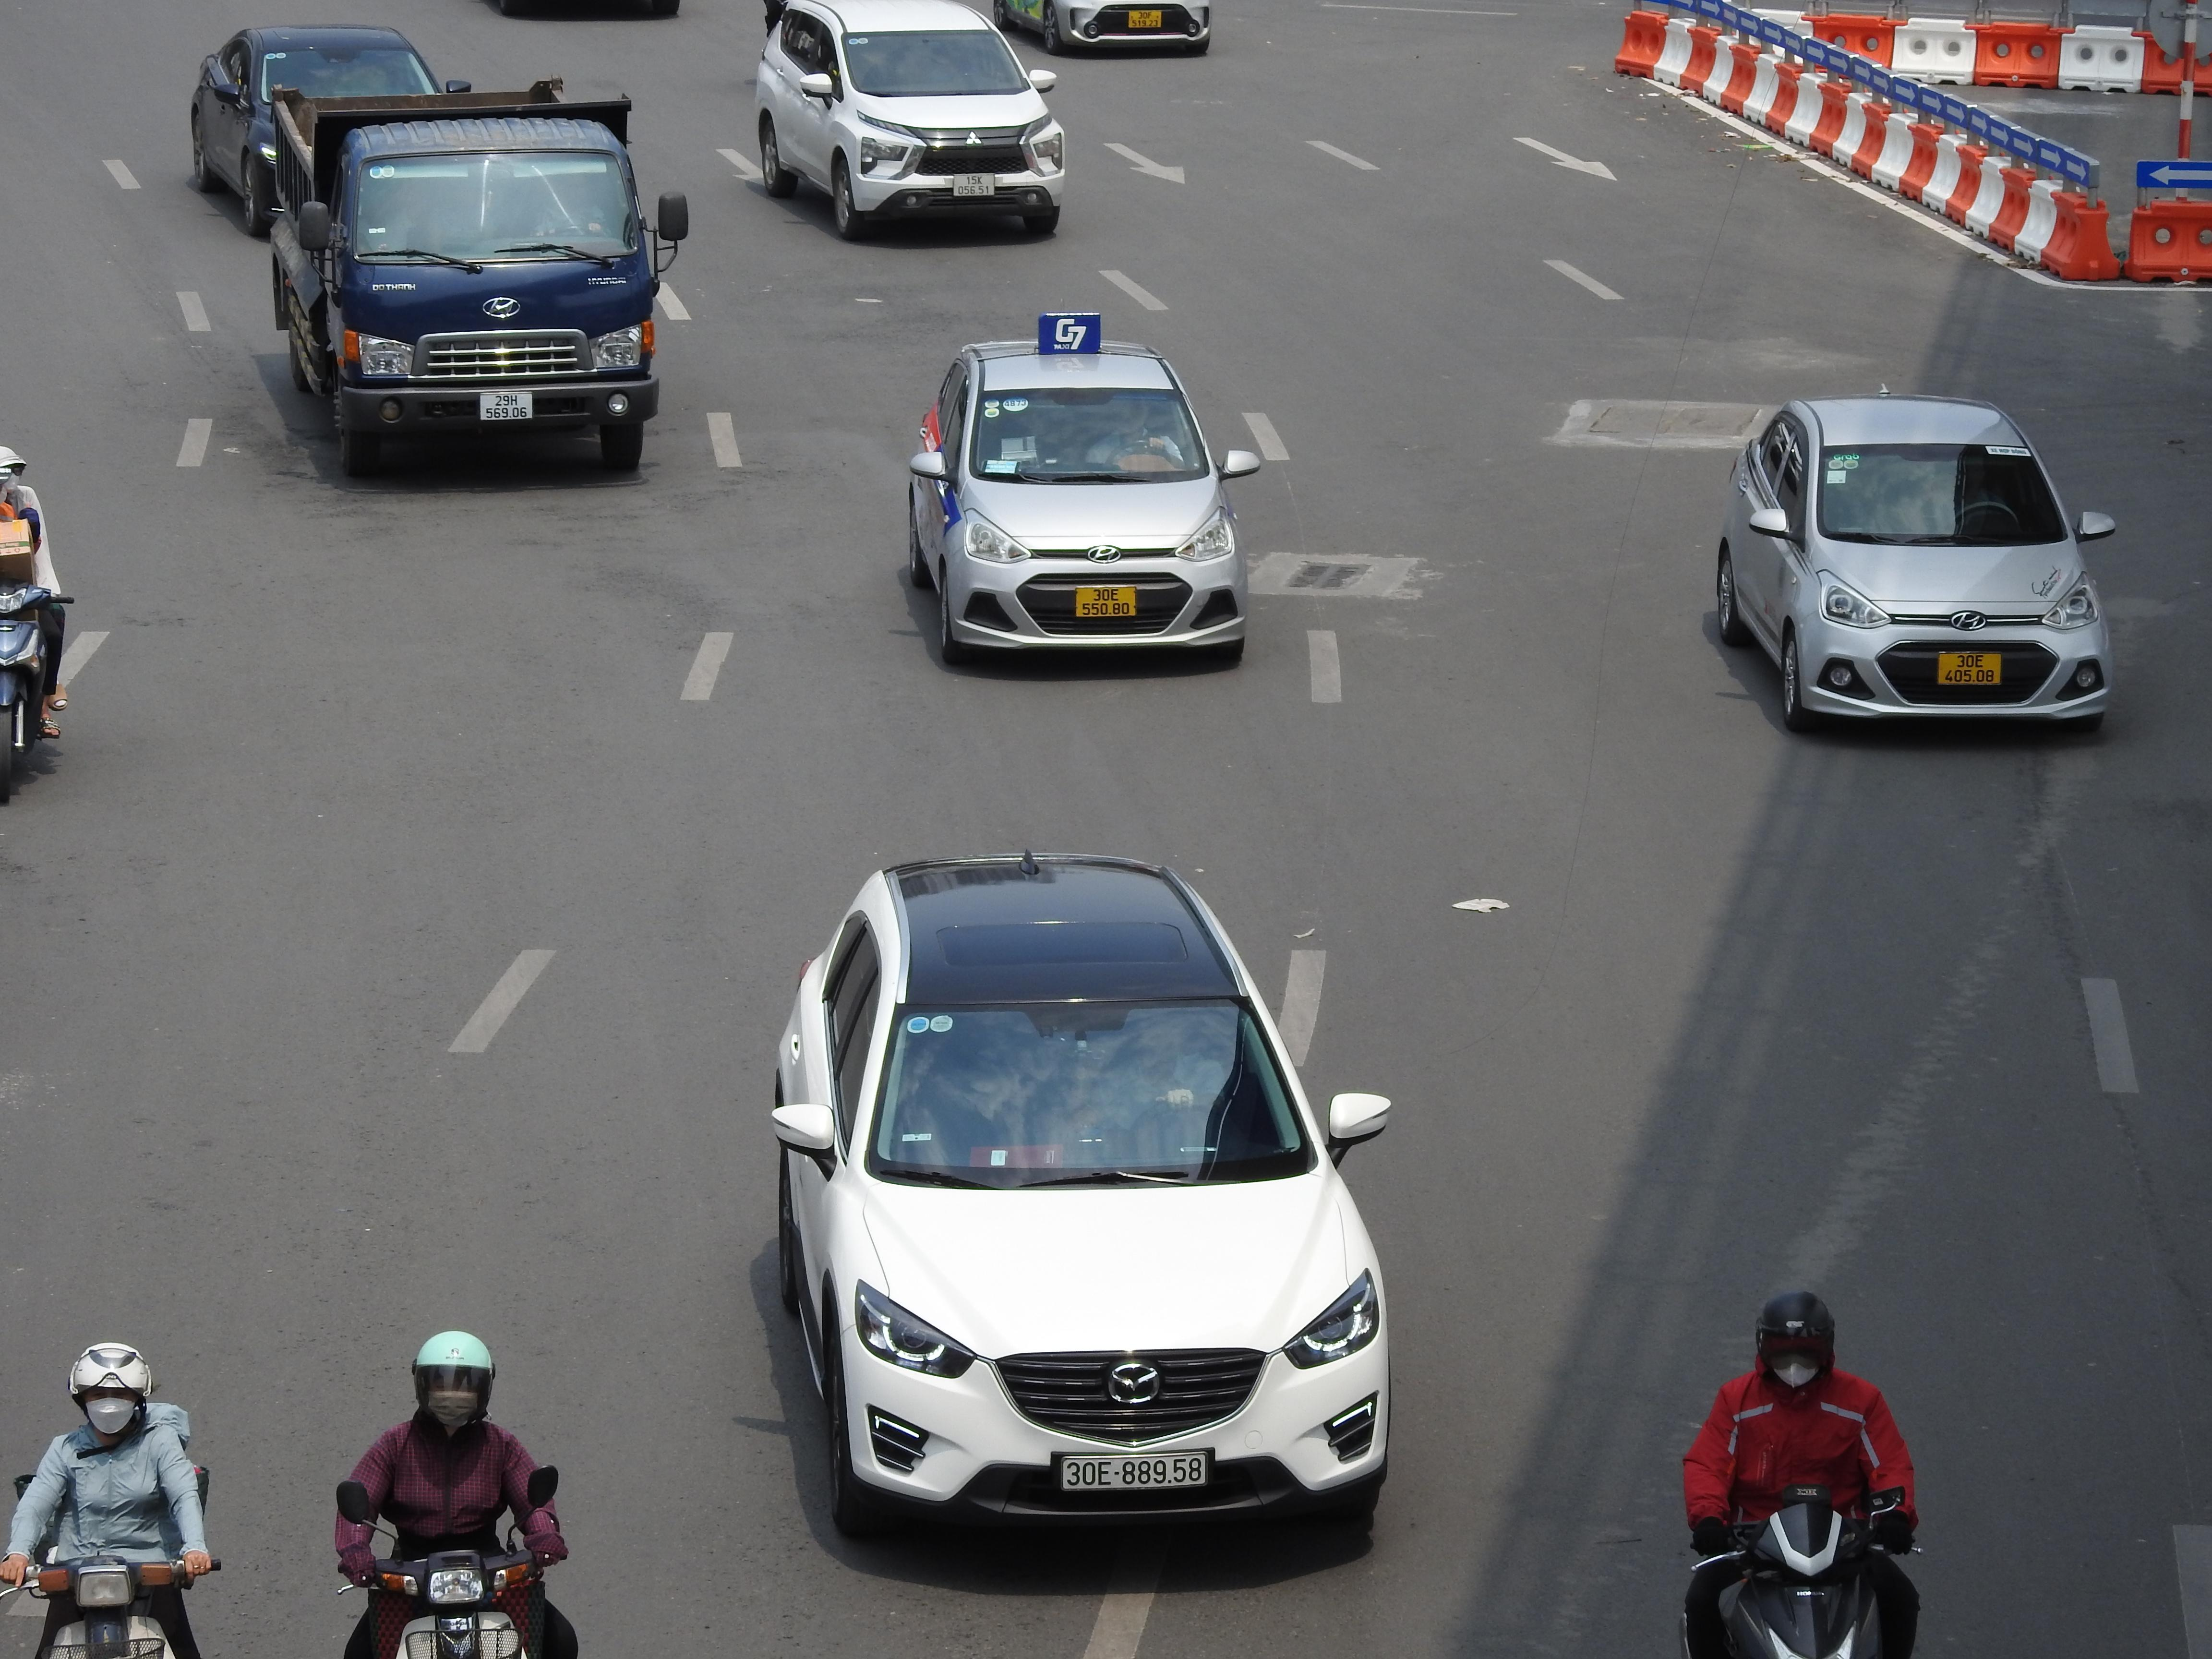BSD: (1061, 1453, 1209, 1490)
BSV: (1937, 652, 2001, 685), (1075, 587, 1137, 619), (479, 389, 533, 420), (953, 174, 996, 197), (1130, 10, 1160, 30)
car: (765, 849, 1395, 1544), (1710, 396, 2116, 737), (902, 329, 1261, 673), (751, 0, 1066, 242), (186, 24, 469, 239), (991, 5, 1214, 63)
motorbike: (1677, 1288, 1923, 1659), (333, 1330, 577, 1659), (0, 1342, 219, 1659), (0, 437, 73, 809)
truck: (266, 77, 688, 479)
